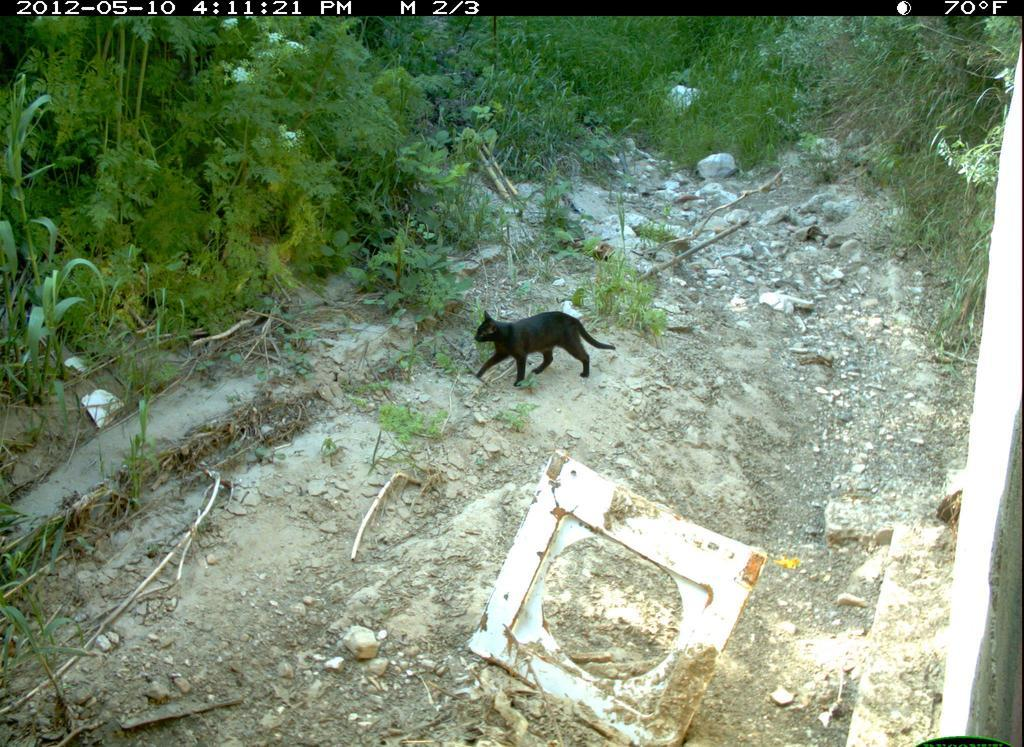cat: (452, 296, 637, 393)
